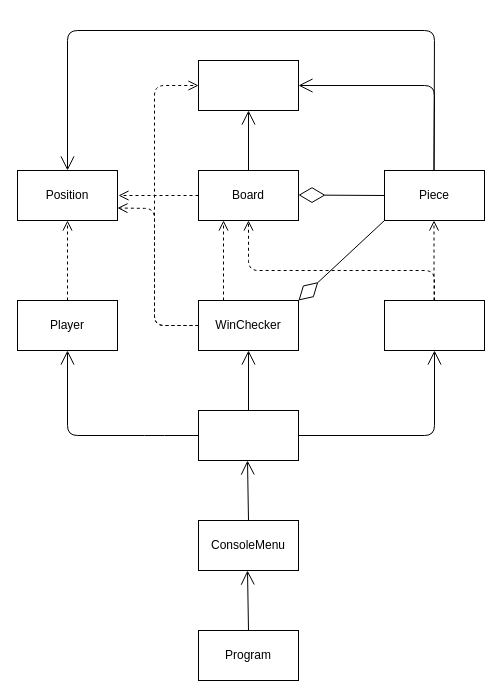
This 502x698 diagram has some shape labels left out. The centre of each missing label's shape, as x and y in pixels:
"ConsoleGame" goes at (x=248, y=435).
"ConsoleRenderer" goes at (x=434, y=325).
"State" goes at (x=248, y=85).
